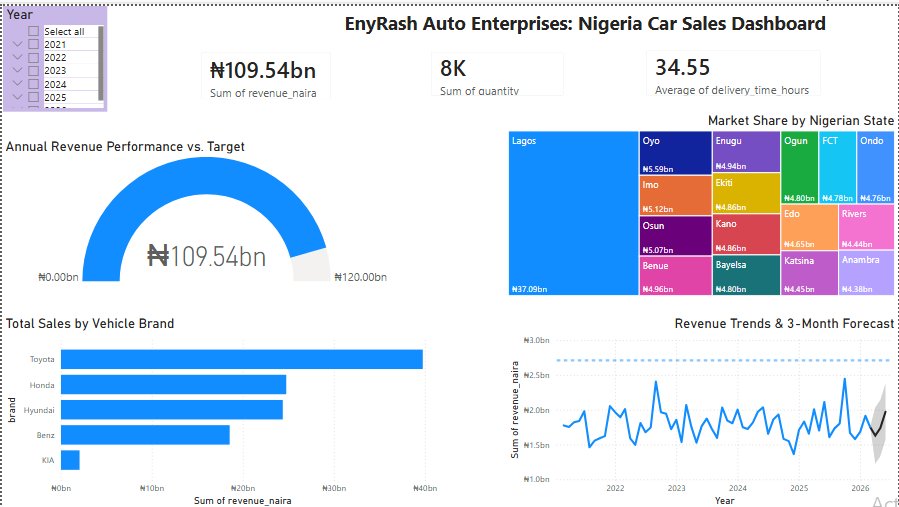

The dashboard page shown, as its layout file describes it:
{"tool":"powerbi","page":{"name":"Page 1","canvas":[1280,720],"ordinal":0},"visuals":[{"type":"gauge","title":"Annual Revenue Performance vs. Target","fields":{"Y":["Sum(public cleaned_nigeria_car_sales_data.revenue_naira)"],"TargetValue":["public cleaned_nigeria_car_sales_data.DynamicTarget"]},"box":[0,188.6,601.9,214.6],"z":0},{"type":"cardVisual","fields":{"Data":["Sum(public cleaned_nigeria_car_sales_data.revenue_naira)"]},"box":[267.1,48.6,220,102.9],"z":1},{"type":"clusteredBarChart","title":"Total Sales by Vehicle Brand","fields":{"Category":["public cleaned_nigeria_car_sales_data.brand"],"Y":["Sum(public cleaned_nigeria_car_sales_data.revenue_naira)"]},"box":[0,441.4,627.1,278.6],"z":3},{"type":"treemap","title":"Market Share by Nigerian State","fields":{"Values":["Sum(public cleaned_nigeria_car_sales_data.revenue_naira)"],"Group":["public cleaned_nigeria_car_sales_data.state"]},"box":[718.6,151.4,561.4,267.1],"z":4},{"type":"lineChart","title":"Revenue Trends & 3-Month Forecast","fields":{"Category":["public cleaned_nigeria_car_sales_data.sale_date.Variation.Date Hierarchy.Year","public cleaned_nigeria_car_sales_data.sale_date.Variation.Date Hierarchy.Month"],"Y":["Sum(public cleaned_nigeria_car_sales_data.revenue_naira)"]},"box":[718.6,441.4,561.4,278.6],"z":5},{"type":"cardVisual","fields":{"Data":["Avg(public cleaned_nigeria_car_sales_data.delivery_time_hours)"]},"box":[902.8,45.8,284.7,100],"z":6},{"type":"textbox","box":[484.3,0,755.7,48.6],"z":7},{"type":"slicer","title":"Year","fields":{"Values":["public cleaned_nigeria_car_sales_data.delivery_date.Variation.Date Hierarchy.Year","public cleaned_nigeria_car_sales_data.delivery_date.Variation.Date Hierarchy.Quarter","public cleaned_nigeria_car_sales_data.delivery_date.Variation.Date Hierarchy.Month","public cleaned_nigeria_car_sales_data.delivery_date.Variation.Date Hierarchy.Day"]},"box":[1.2,0,148.8,151.2],"z":8},{"type":"cardVisual","fields":{"Data":["Sum(public cleaned_nigeria_car_sales_data.quantity)"]},"box":[588.6,48.6,225.7,102.9],"z":9}]}

Visuals, with their boxes on the page's 1280x720 design canvas (x1, y1, x2, y2). These are canvas units, not pixel positions in the 899x507 screenshot, which may show the page scaled, cropped or inside an application window:
"Annual Revenue Performance vs. Target" gauge: box(0, 189, 602, 403)
cardVisual - Sum(public cleaned_nigeria_car_sales_data.revenue_naira): box(267, 49, 487, 152)
"Total Sales by Vehicle Brand" clusteredBarChart: box(0, 441, 627, 720)
"Market Share by Nigerian State" treemap: box(719, 151, 1280, 418)
"Revenue Trends & 3-Month Forecast" lineChart: box(719, 441, 1280, 720)
cardVisual - Avg(public cleaned_nigeria_car_sales_data.delivery_time_hours): box(903, 46, 1188, 146)
textbox: box(484, 0, 1240, 49)
"Year" slicer: box(1, 0, 150, 151)
cardVisual - Sum(public cleaned_nigeria_car_sales_data.quantity): box(589, 49, 814, 152)
